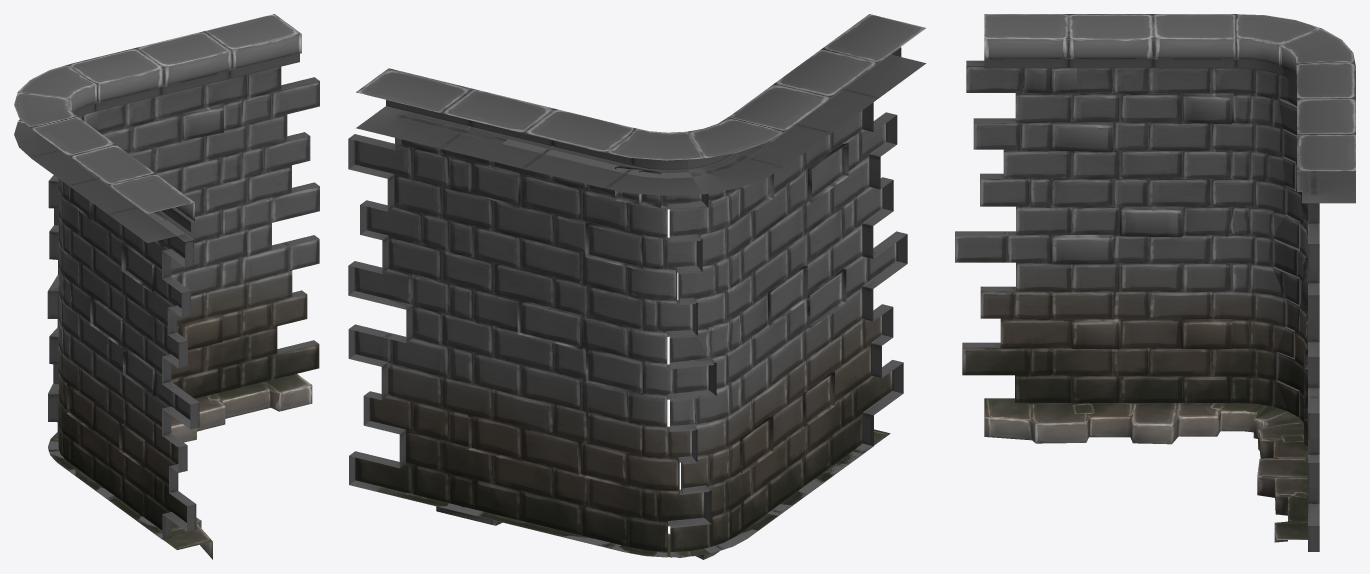
Rendered from BD_Wall_InnerCorner.fbx.
3 renders of one model, left to right at view 1: azimuth 30°, elevation 25°; view 2: azimuth 150°, elevation 25°; view 3: azimuth 270°, elevation 25°, orthographic. The views are drawn at different scales.
Visible parts, largest first — view 1: BD_Wall_InnerCorner; view 2: BD_Wall_InnerCorner; view 3: BD_Wall_InnerCorner.
Boxes of the visible parts, bbox=[...] form: BD_Wall_InnerCorner: bbox=[14, 14, 319, 559]; BD_Wall_InnerCorner: bbox=[348, 14, 926, 559]; BD_Wall_InnerCorner: bbox=[955, 14, 1355, 551].
Bounding box in the file's own units: 4.8 × 5.13 × 4.8.
